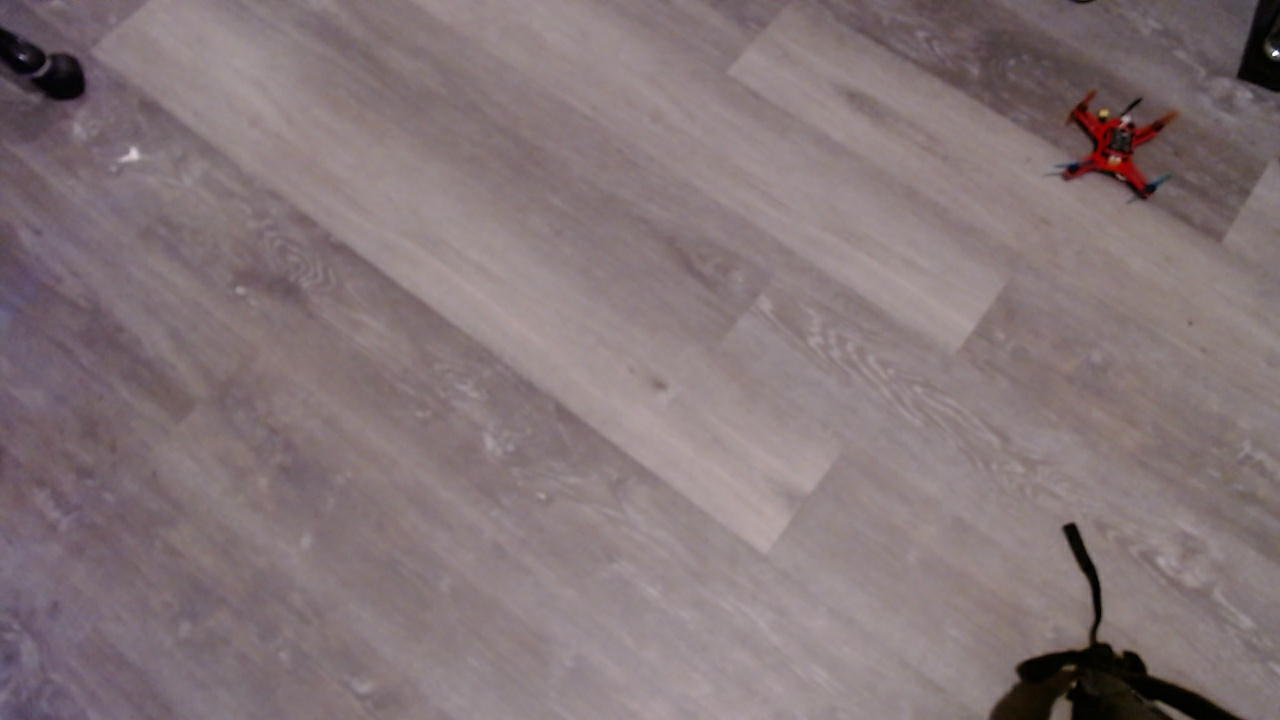crazyflie: (1058, 85, 1196, 214)
